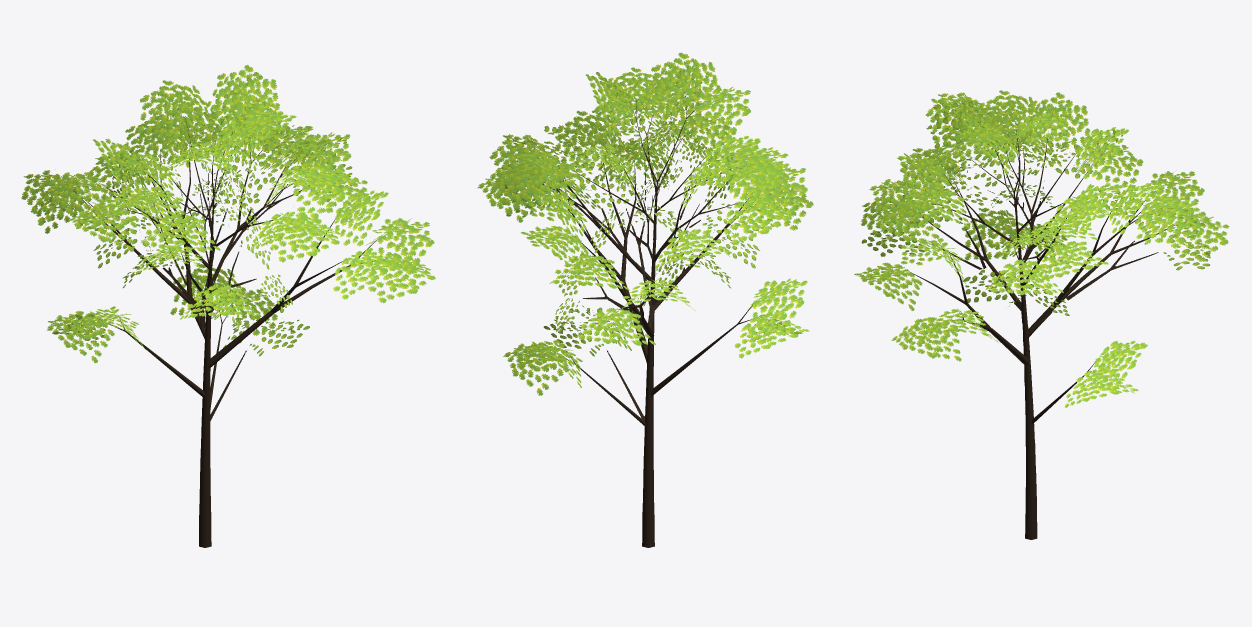
The model's file is OakTree1.fbx.
3 renders of one model, left to right at view 1: azimuth 30°, elevation 25°; view 2: azimuth 150°, elevation 25°; view 3: azimuth 270°, elevation 25°, orthographic. The views are drawn at different scales.
Visible parts, largest first — view 1: OakTree_Leaves, OakTree_Billboard, OakTree; view 2: OakTree_Leaves, OakTree_Billboard, OakTree; view 3: OakTree_Leaves, OakTree_Billboard, OakTree.
Part boxes in pixels (box(x1,y1,x2,y2)): OakTree_Leaves: box(21, 65, 435, 363); OakTree_Billboard: box(52, 72, 352, 526); OakTree: box(74, 109, 386, 547); OakTree_Leaves: box(477, 52, 813, 395); OakTree_Billboard: box(501, 66, 801, 525); OakTree: box(542, 95, 761, 547); OakTree_Leaves: box(854, 90, 1229, 407); OakTree_Billboard: box(862, 101, 1210, 503); OakTree: box(905, 118, 1175, 539).
Bounding box in the file's own units: 876 × 1104 × 867.
